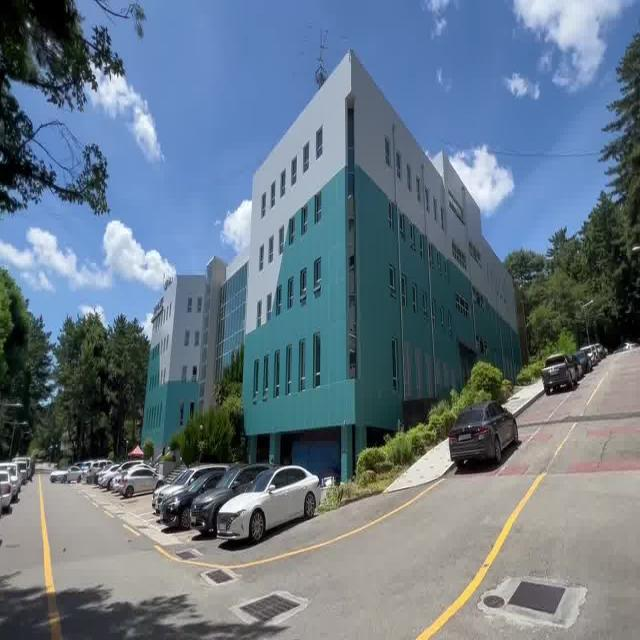building: (145, 85, 458, 421)
